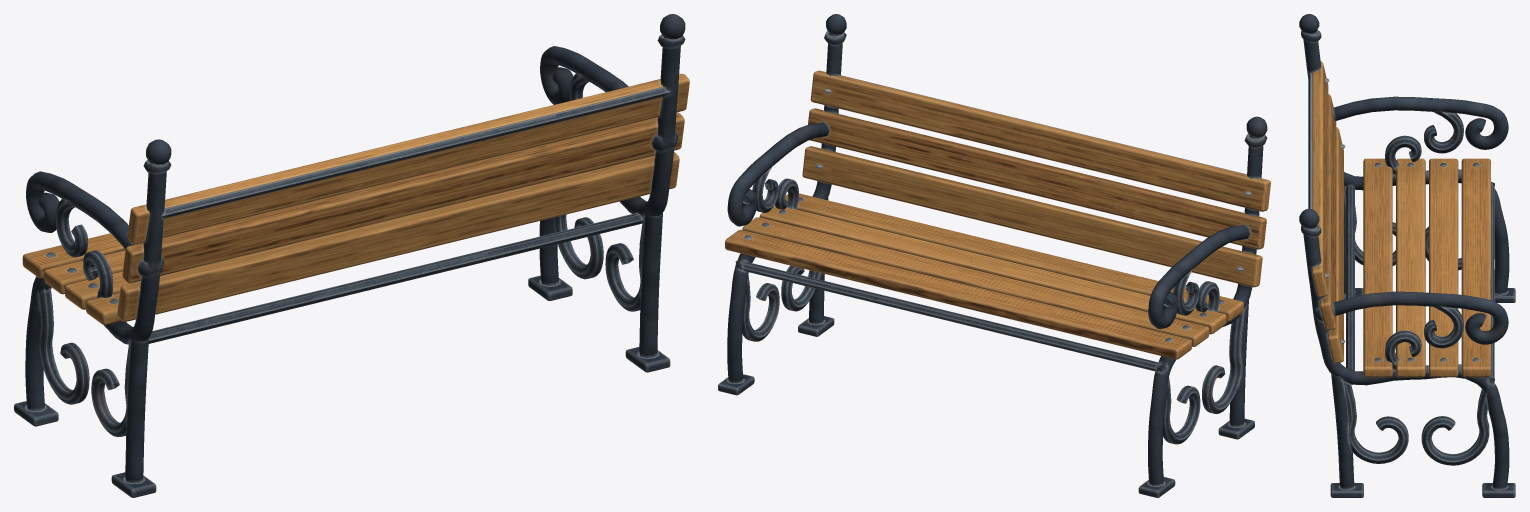
The model's file is park-bench.fbx.
3 renders of one model, left to right at view 1: azimuth 30°, elevation 25°; view 2: azimuth 150°, elevation 25°; view 3: azimuth 270°, elevation 25°, orthographic. The views are drawn at different scales.
Visible parts, largest first — view 1: Body; view 2: Body; view 3: Body.
Part boxes in pixels (x1,y1,x2,y2): Body: (14, 14, 689, 497); Body: (718, 14, 1270, 497); Body: (1299, 14, 1515, 497).
Bounding box in the file's own units: 1.64 × 1.04 × 0.7141.
